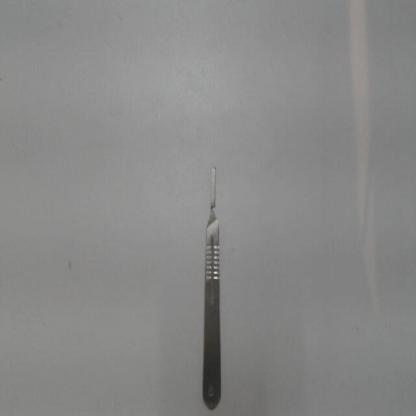No.4 BP Handle: (197, 152, 229, 413)
